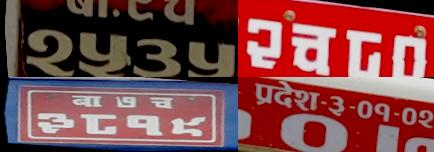0: (273, 107, 352, 152), (383, 32, 432, 77), (398, 105, 419, 130), (353, 97, 374, 121)
1: (118, 112, 169, 140), (369, 99, 394, 124)
2: (16, 21, 80, 77), (238, 14, 290, 76), (414, 107, 434, 131)
3: (123, 31, 187, 77), (28, 110, 80, 135), (323, 93, 350, 119)
5: (70, 26, 134, 77), (176, 36, 238, 77)
7: (367, 119, 434, 152), (238, 87, 257, 147), (108, 94, 140, 110)
8: (335, 27, 393, 77), (72, 111, 123, 137)
9: (162, 113, 209, 140), (120, 0, 160, 26)
ba: (59, 0, 118, 24), (66, 93, 106, 110)
cha: (282, 20, 340, 77), (154, 0, 203, 33), (143, 93, 178, 112)
